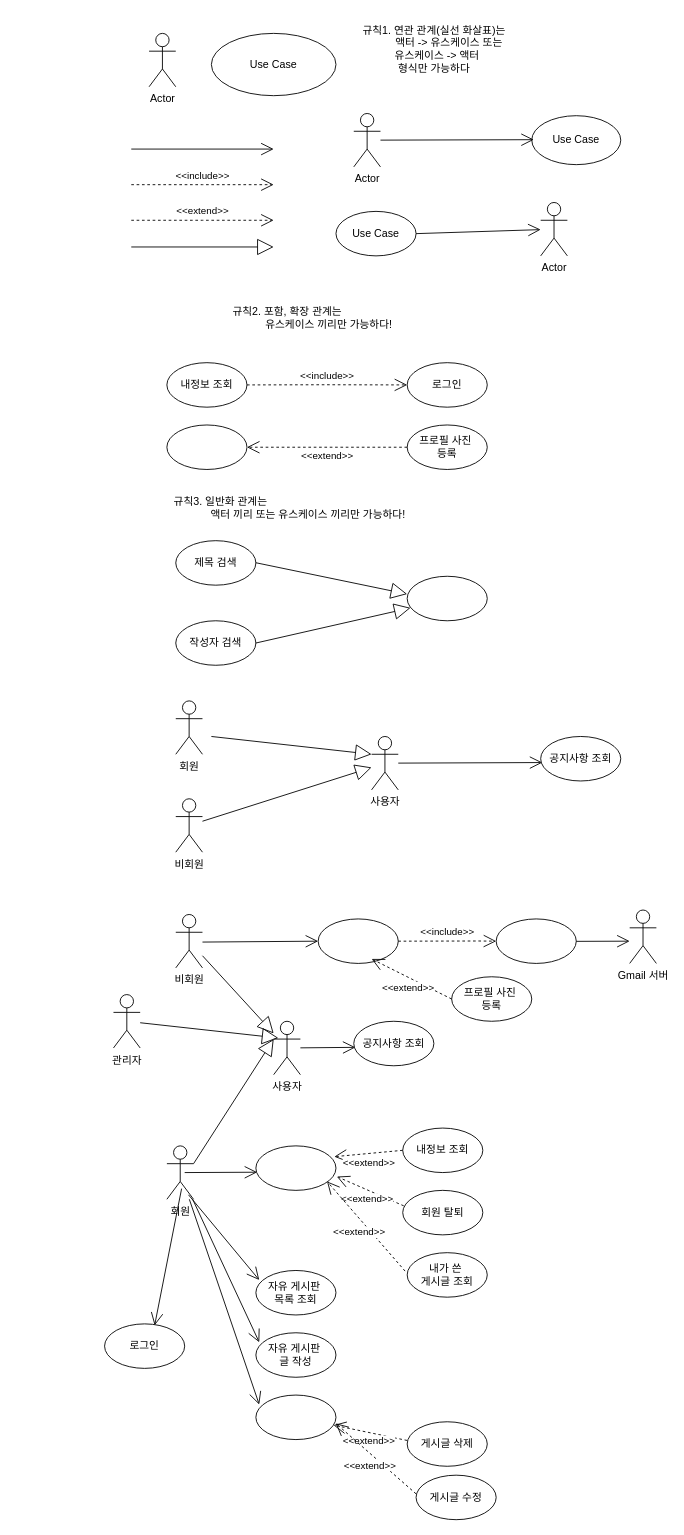
Some shapes in this 684 by 1535 pixel diagram are drawn without their labels. The box of each missing label's shape, as (x1, y1, x2, y2) in pixels:
게시글 검색: (406, 575, 487, 621)
마이페이지: (255, 1145, 336, 1190)
이메일 인증: (495, 918, 576, 963)
자유 게시판 글 상세조회: (255, 1394, 336, 1440)
회원 가입: (317, 918, 398, 963)
회원가입: (166, 424, 247, 469)
